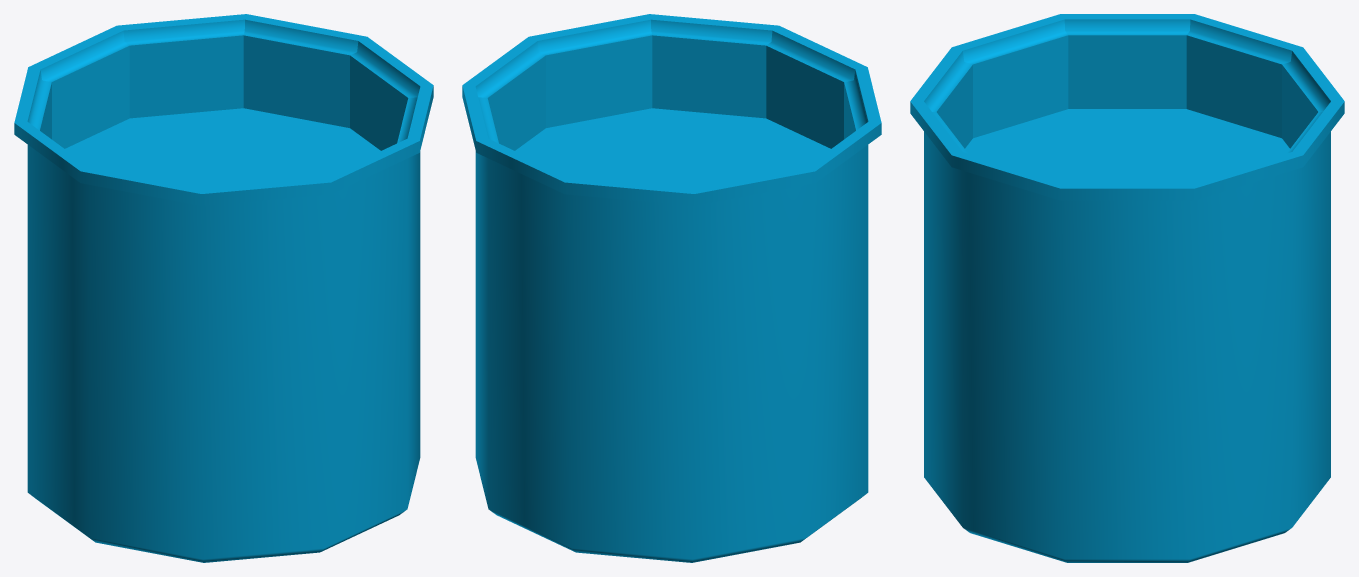
Rendered from Paint_Bucket_04_Lod1.fbx.
3 views of the same model, side by side, from view 1: azimuth 30°, elevation 25°; view 2: azimuth 150°, elevation 25°; view 3: azimuth 270°, elevation 25° (orthographic).
Parts seen in each view (by area): view 1: Paint_Bucket_04_Lod1; view 2: Paint_Bucket_04_Lod1; view 3: Paint_Bucket_04_Lod1.
Boxes of the visible parts, bbox=[...] form: Paint_Bucket_04_Lod1: bbox=[14, 14, 433, 562]; Paint_Bucket_04_Lod1: bbox=[462, 14, 881, 562]; Paint_Bucket_04_Lod1: bbox=[910, 14, 1344, 562].
Size of the model in its own units: 23.93 by 24.5 by 25.17.
